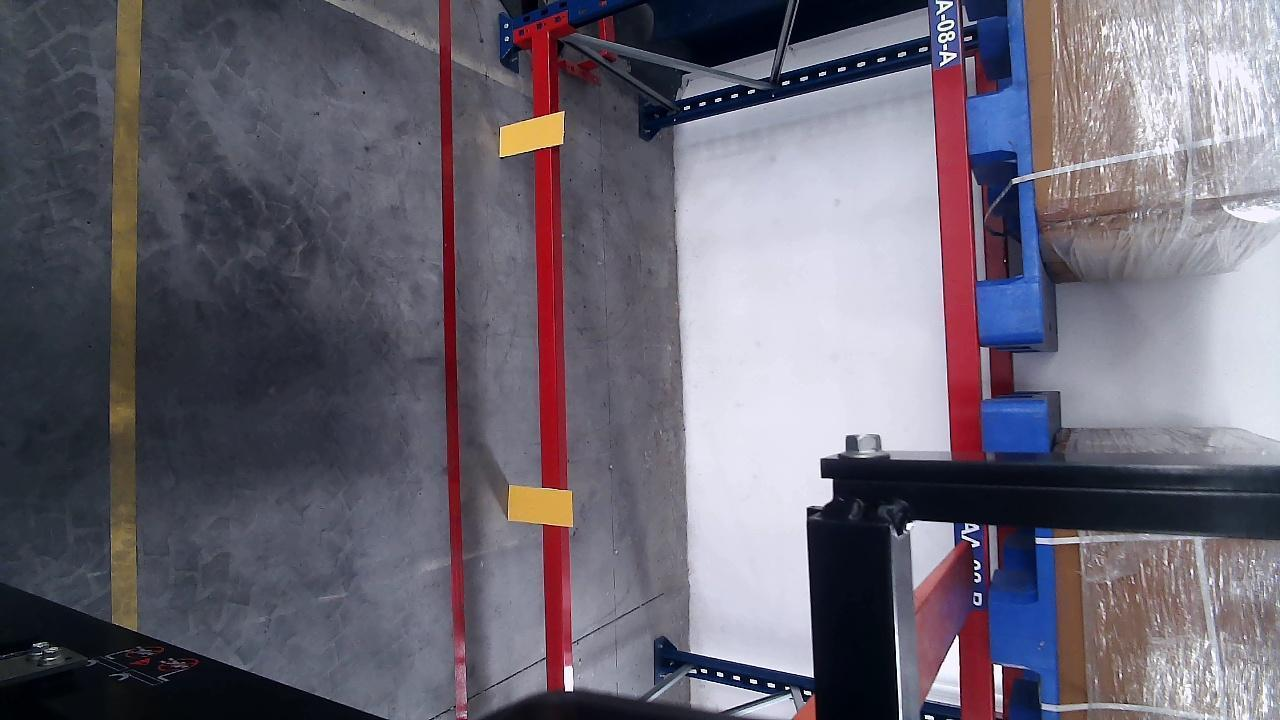red_line: (433, 0, 477, 720)
yellow_line: (115, 0, 146, 630)
